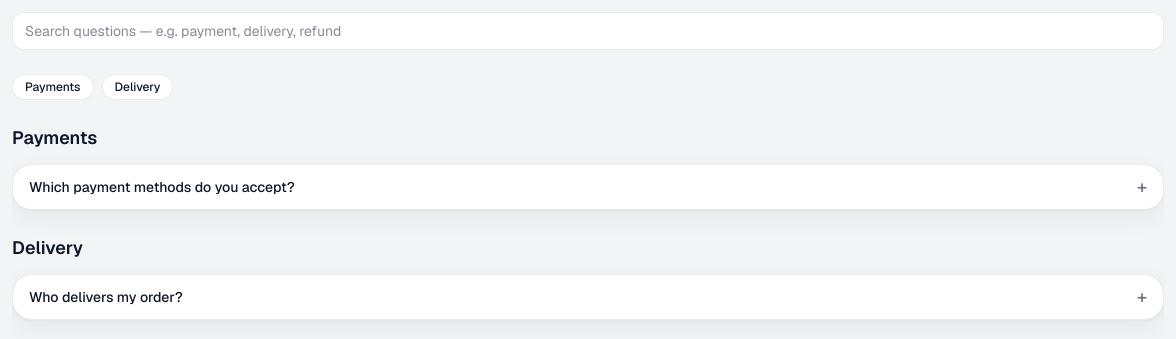
Test: FaqList › shows an empty state when nothing matches
Type "bitcoin" into the search field named "Search help articles" at (588, 31), box [12,12,1164,50]
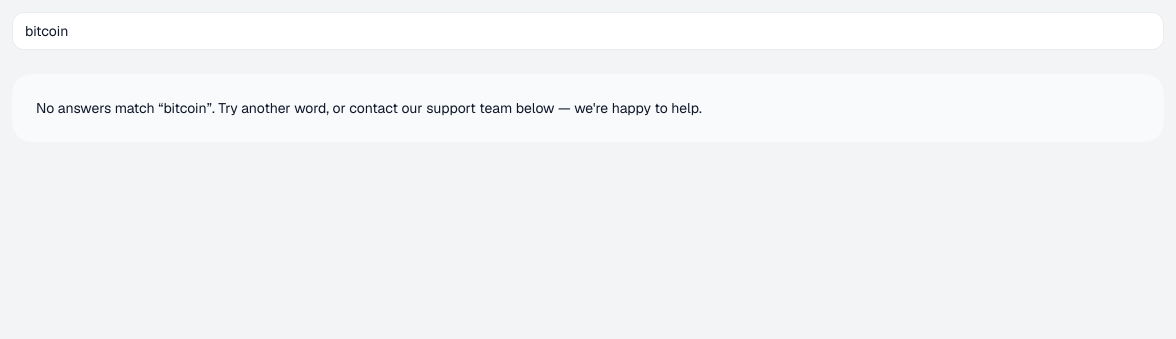
Expected: the text "No answers match" is shown, [36,99,163,117]
